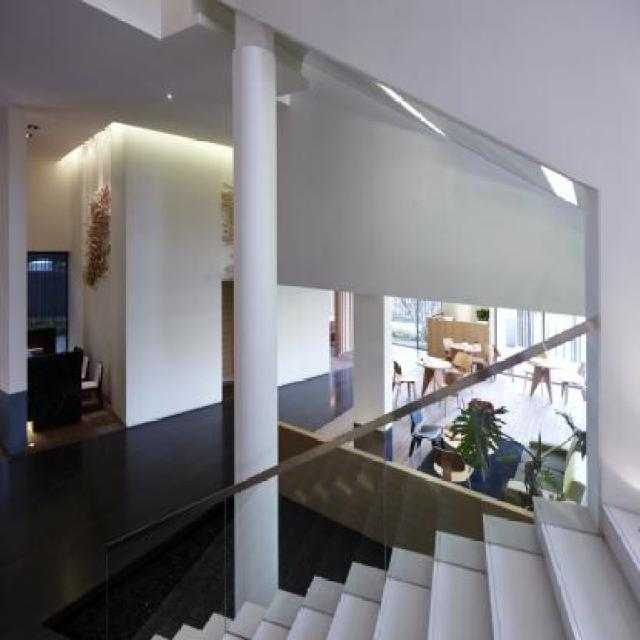stair: (147, 494, 640, 640)
